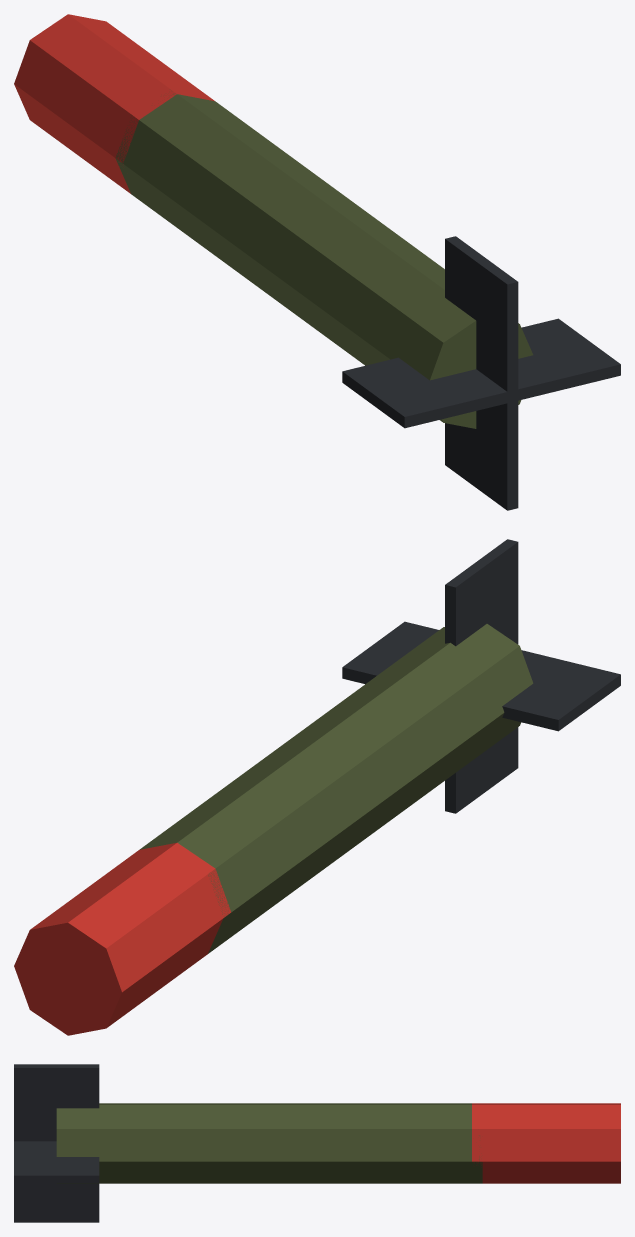
The model's file is rocket.glb.
3 renders of one model, top to bottom at view 1: azimuth 30°, elevation 25°; view 2: azimuth 150°, elevation 25°; view 3: azimuth 270°, elevation 25°, orthographic. The views are drawn at different scales.
Visible parts, largest first — view 1: rocket_Body; view 2: rocket_Body; view 3: rocket_Body.
Part boxes in pixels (x1=…): rocket_Body: x1=14, y1=14, x2=620, y2=510; rocket_Body: x1=14, y1=539, x2=620, y2=1035; rocket_Body: x1=14, y1=1064, x2=620, y2=1222.
Size of the model in its own units: 0.16 by 0.16 by 0.57.
